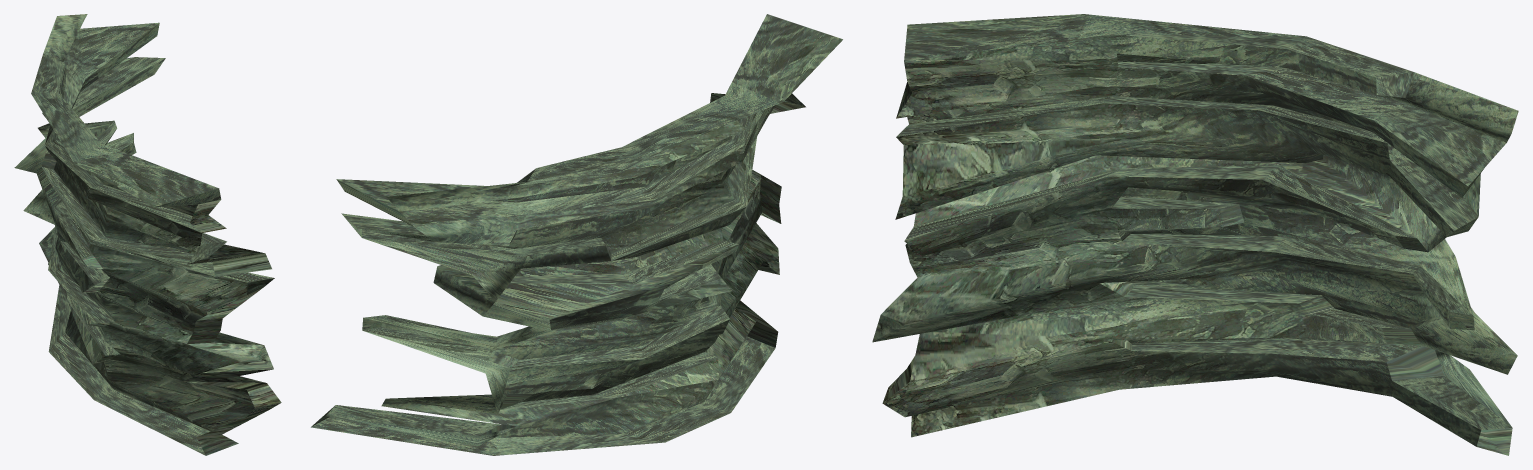
Rendered from 10104_CStone06.FBX.
The picture shows the model from 3 angles, left to right: view 1: azimuth 30°, elevation 25°; view 2: azimuth 150°, elevation 25°; view 3: azimuth 270°, elevation 25°; orthographic projection. The views are drawn at different scales.
Parts seen in each view (by area): view 1: Plane016; view 2: Plane016; view 3: Plane016.
Part boxes in pixels (<box>): Plane016: <box>14,14,281,455</box>; Plane016: <box>311,14,842,455</box>; Plane016: <box>872,14,1518,455</box>.
Size of the model in its own units: 293 by 324 by 516.
